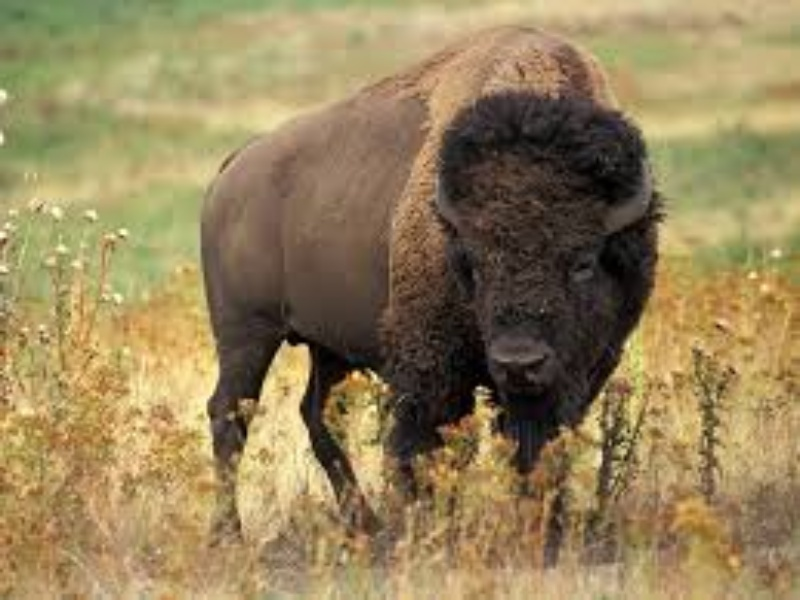buffalo: (164, 30, 692, 553)
